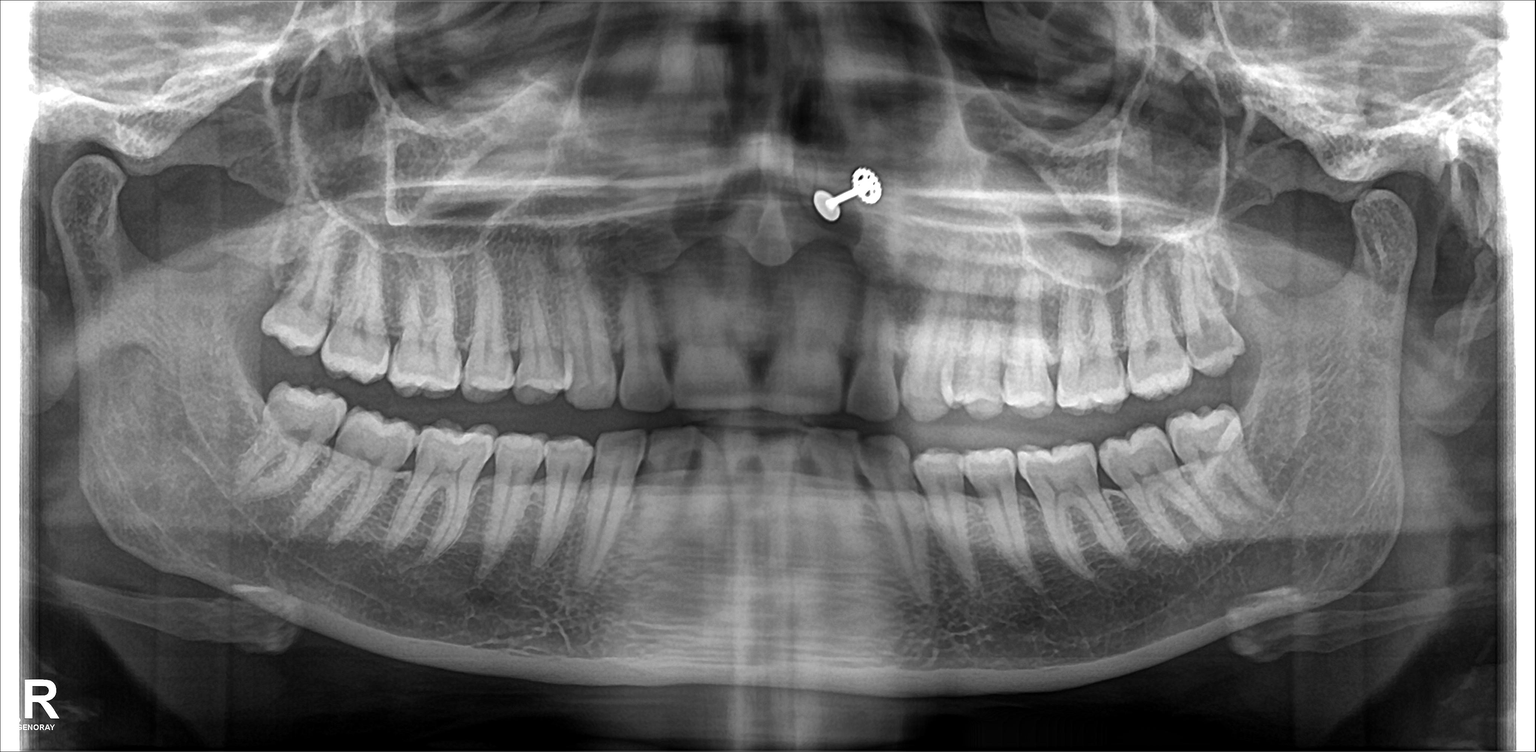Dental Caries: (1183, 324, 1241, 365)
Missing Tooth: (227, 246, 274, 350)
